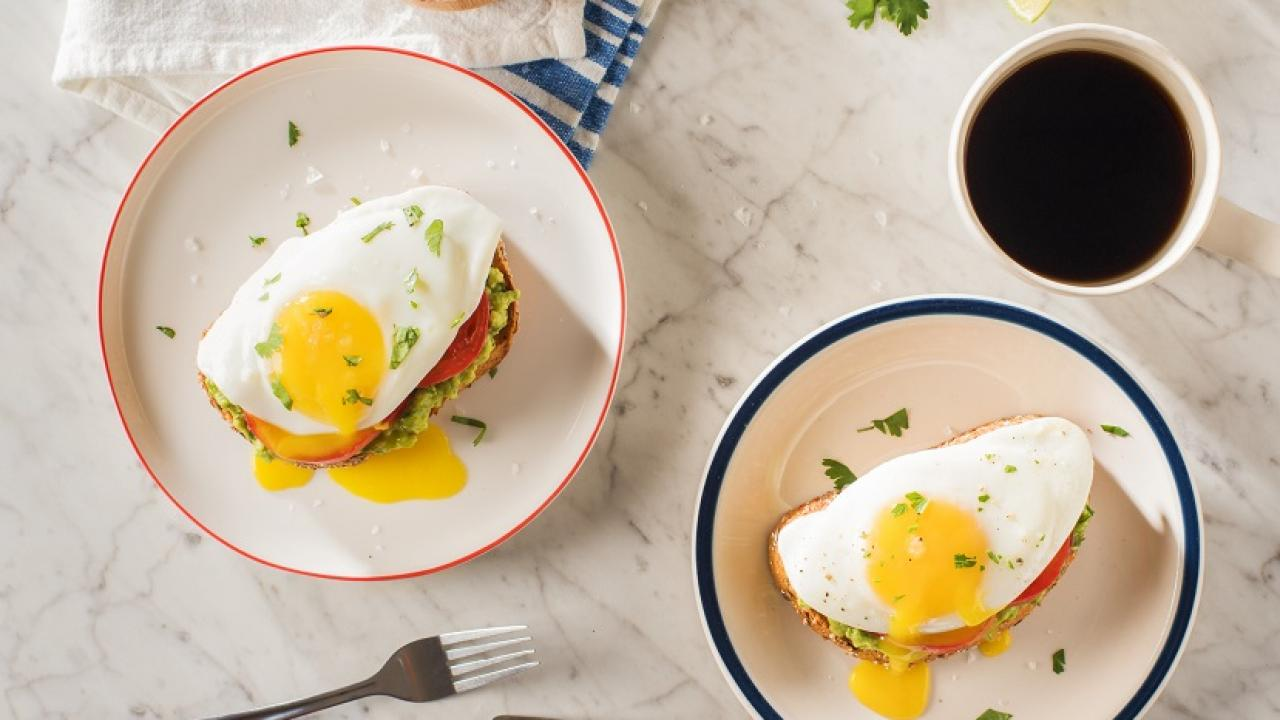fried egg: (216, 198, 471, 432), (807, 449, 1079, 641)
